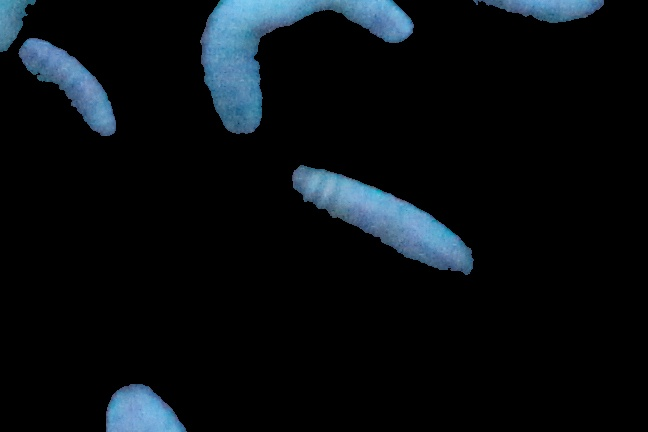larvae: (290, 161, 478, 295), (202, 1, 282, 138), (14, 41, 116, 136), (92, 373, 189, 432), (290, 1, 416, 43)
